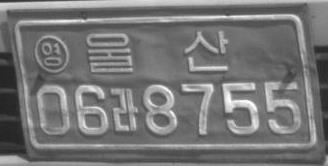0: (36, 84, 70, 134)
5: (263, 79, 301, 135), (221, 80, 259, 135)
6: (73, 83, 108, 137)
7: (180, 83, 214, 135)
8: (142, 84, 177, 136)
라: (109, 87, 137, 132)
영: (34, 33, 70, 75)
울산_D: (86, 29, 228, 74)
